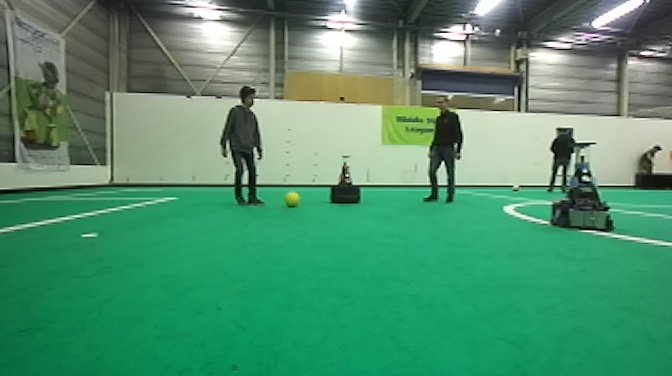ball: (284, 189, 302, 209), (509, 182, 521, 193)
human: (216, 81, 265, 207), (420, 94, 464, 205), (547, 126, 575, 193), (629, 138, 659, 187)
robot: (549, 140, 616, 233), (329, 152, 362, 206)
